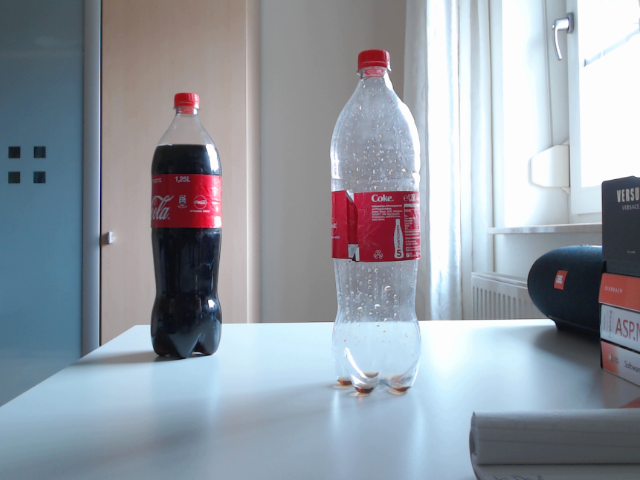bottle: (330, 49, 423, 394), (150, 91, 224, 358)
